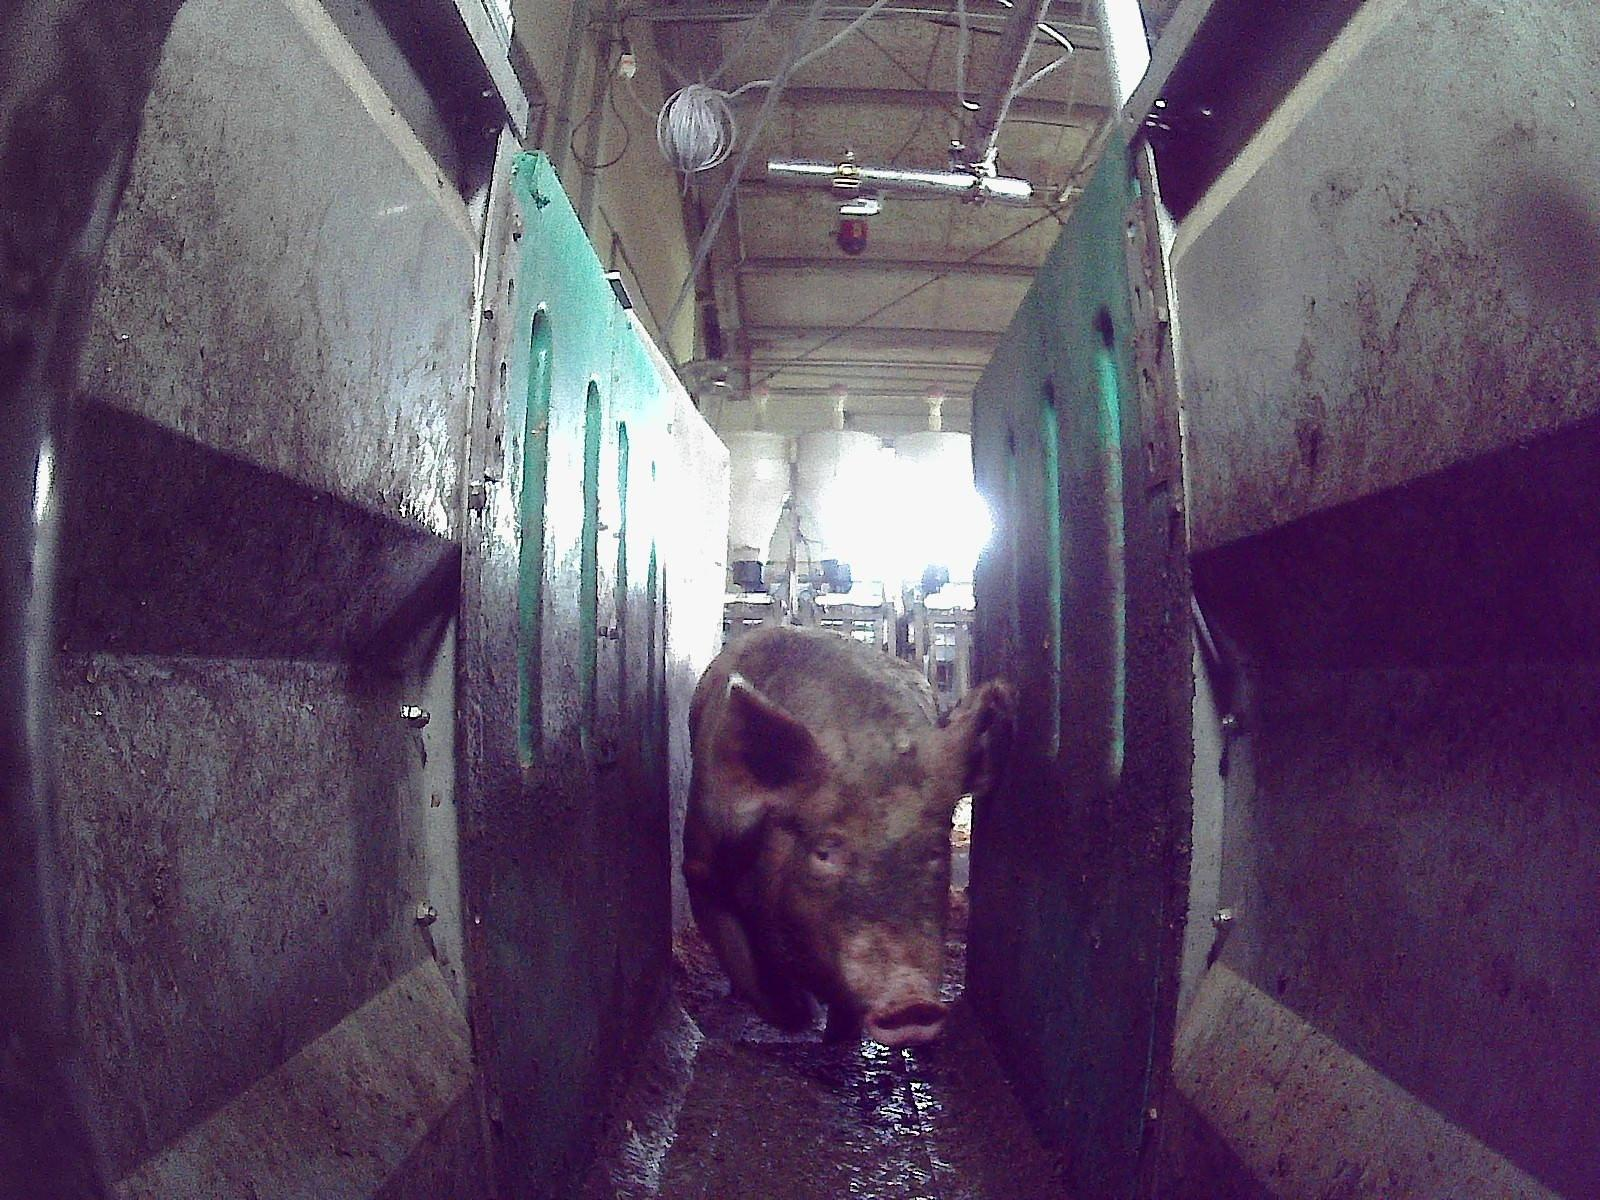Face: (780, 750, 950, 1044)
